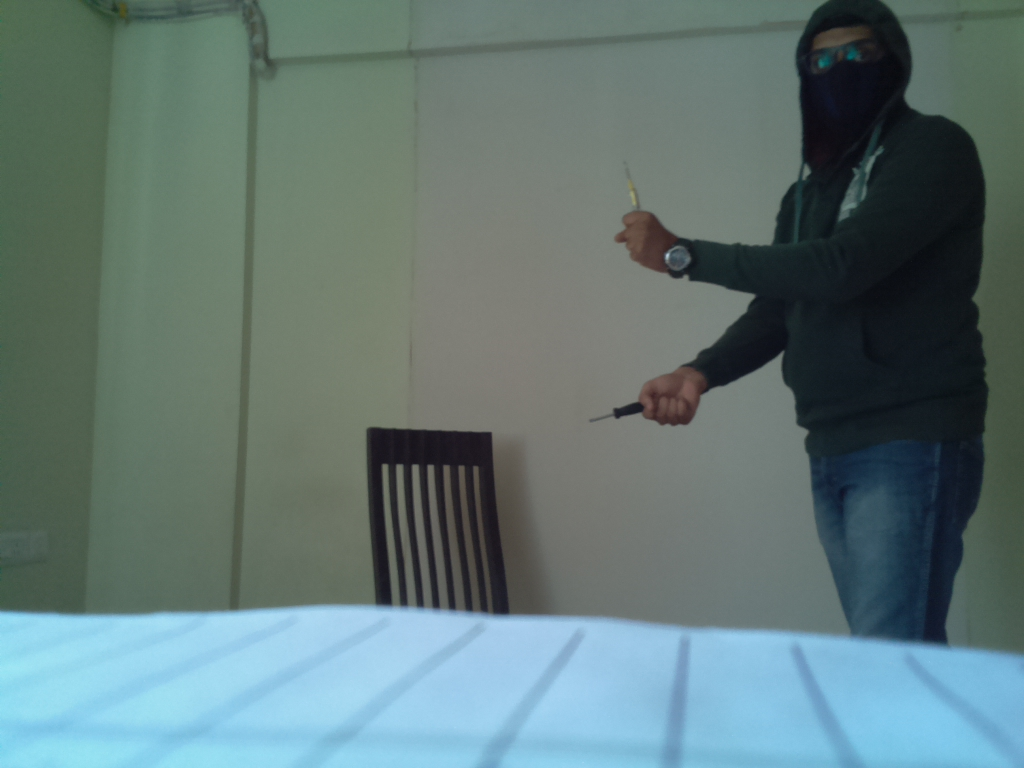none2: (663, 240, 698, 289)
none3: (590, 395, 663, 428), (617, 157, 647, 226)
